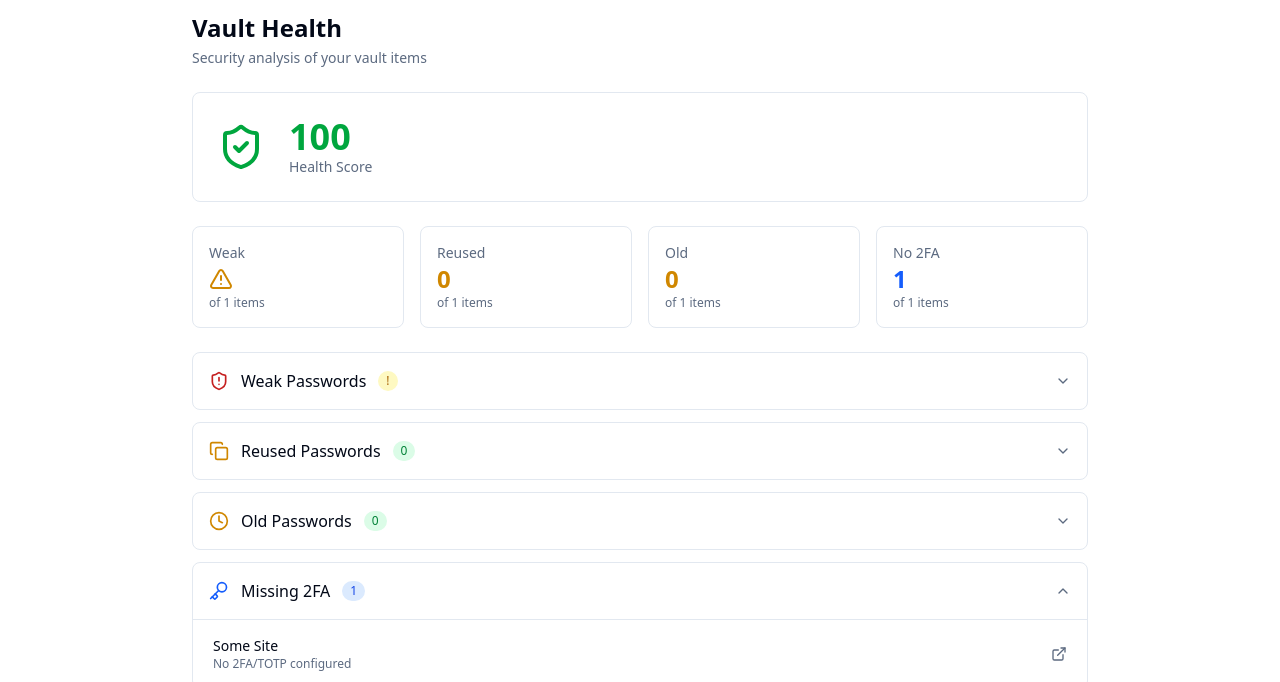
Test: VaultHealthPage - weak password detection › surfaces a strength-analysis failure and never a false "No issues found"
Expected: the icon named "Weak analysis failed" is shown, [209, 267, 233, 291]
Click the button "Weak Passwords !". click: (304, 381)
box: [193, 353, 1087, 409]
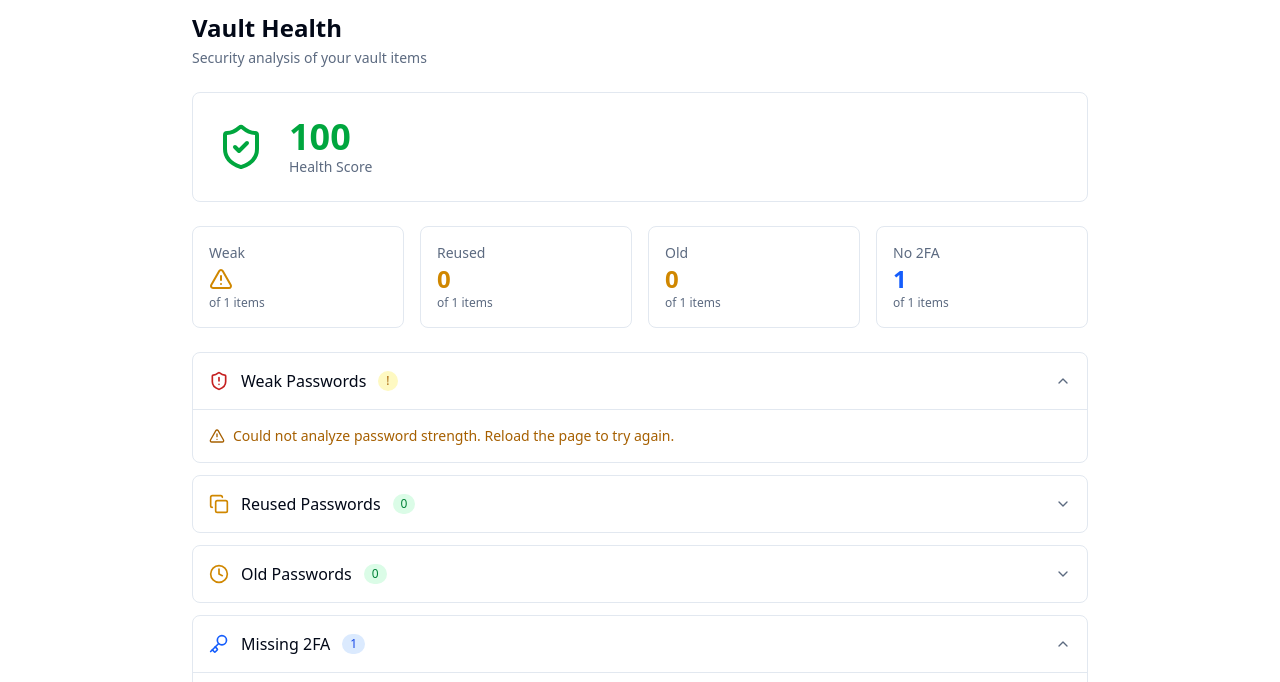
Expected: the text "Could not analyze password strength" is shown, [233, 426, 674, 445]
